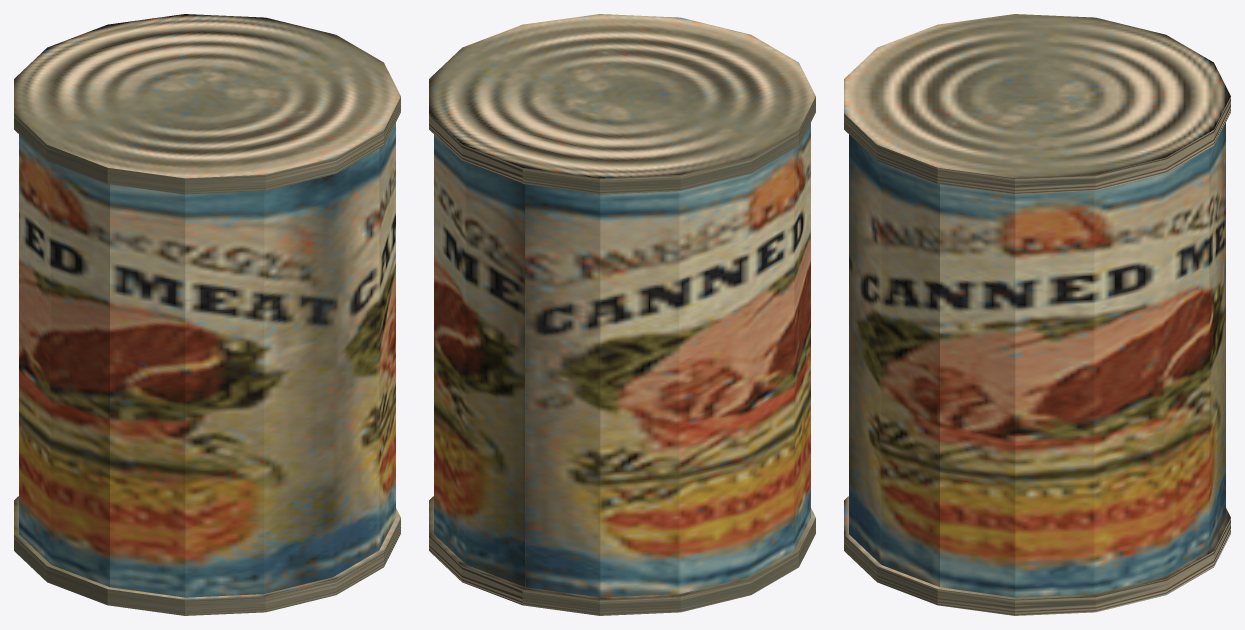
Rendered from meat_can.fbx.
3 renders of one model, left to right at view 1: azimuth 30°, elevation 25°; view 2: azimuth 150°, elevation 25°; view 3: azimuth 270°, elevation 25°, orthographic.
Visible parts, largest first — view 1: Meat_Can; view 2: Meat_Can; view 3: Meat_Can.
Boxes of the visible parts, x1,y1,x2,y2 form: Meat_Can: [14, 14, 400, 615]; Meat_Can: [429, 14, 815, 615]; Meat_Can: [844, 14, 1230, 615].
Bounding box in the file's own units: 60.1 × 74.61 × 59.77.
3 materials, 3 textured.
